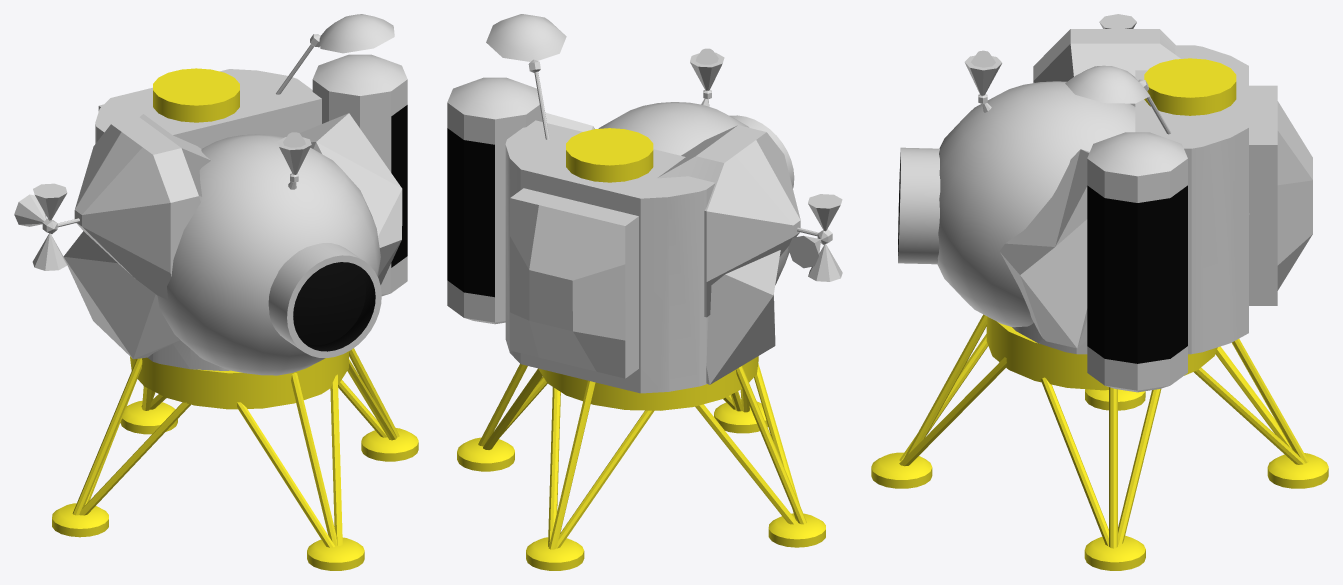
Rendered from LunarModule.fbx.
The picture shows the model from 3 angles, left to right: view 1: azimuth 30°, elevation 25°; view 2: azimuth 150°, elevation 25°; view 3: azimuth 270°, elevation 25°; orthographic projection. The views are drawn at different scales.
Visible parts, largest first — view 1: Face, TopLeftBody, Nose, BackBody, GasTank, BottomLeftBody, GoldBase, BottomRightBody, Legs2, Legs1, TopGoldDial, Legs4 (+5 smaller); view 2: BackBody, Backpack, TopLeftBody, GasTank, GasTankGlass, BottomLeftBody, Legs3, Legs1, Face, TopGoldDial, GoldBase, Legs4 (+5 smaller); view 3: Face, BackBody, GasTankGlass, Backpack, BottomRightBody, GasTank, Legs4, TopLeftBody, Legs3, Legs2, Nose, GoldBase (+4 smaller).
Boxes of the visible parts, x1,y1,x2,y2 form: Face: (157, 134, 380, 375); TopLeftBody: (57, 114, 210, 299); Nose: (268, 243, 381, 357); BackBody: (95, 69, 321, 370); GasTank: (312, 54, 407, 296); BottomLeftBody: (63, 231, 180, 359); GoldBase: (130, 351, 348, 409); BottomRightBody: (300, 113, 402, 284); Legs2: (237, 372, 364, 570); Legs1: (52, 358, 190, 537); TopGoldDial: (153, 68, 239, 122); Legs4: (338, 348, 418, 461); BackBody: (505, 120, 715, 393); Backpack: (510, 188, 638, 378); TopLeftBody: (657, 125, 818, 317); GasTank: (447, 77, 542, 324); GasTankGlass: (447, 128, 494, 297); BottomLeftBody: (706, 250, 780, 384); Legs3: (526, 380, 654, 570); Legs1: (695, 363, 825, 547); Face: (598, 102, 789, 284); TopGoldDial: (566, 128, 653, 182); GoldBase: (538, 356, 758, 410); Legs4: (457, 364, 547, 471); Face: (937, 81, 1135, 327); BackBody: (1012, 45, 1249, 354); GasTankGlass: (1087, 185, 1187, 363); Backpack: (1249, 85, 1312, 305); BottomRightBody: (999, 149, 1089, 348); GasTank: (1087, 132, 1187, 392); Legs4: (1040, 377, 1161, 570); TopLeftBody: (1033, 29, 1180, 106); Legs3: (1194, 339, 1328, 488); Legs2: (871, 314, 1006, 488); Nose: (898, 147, 940, 264); GoldBase: (986, 316, 1217, 390).
Size of the model in its own units: 419 by 469 by 414.
